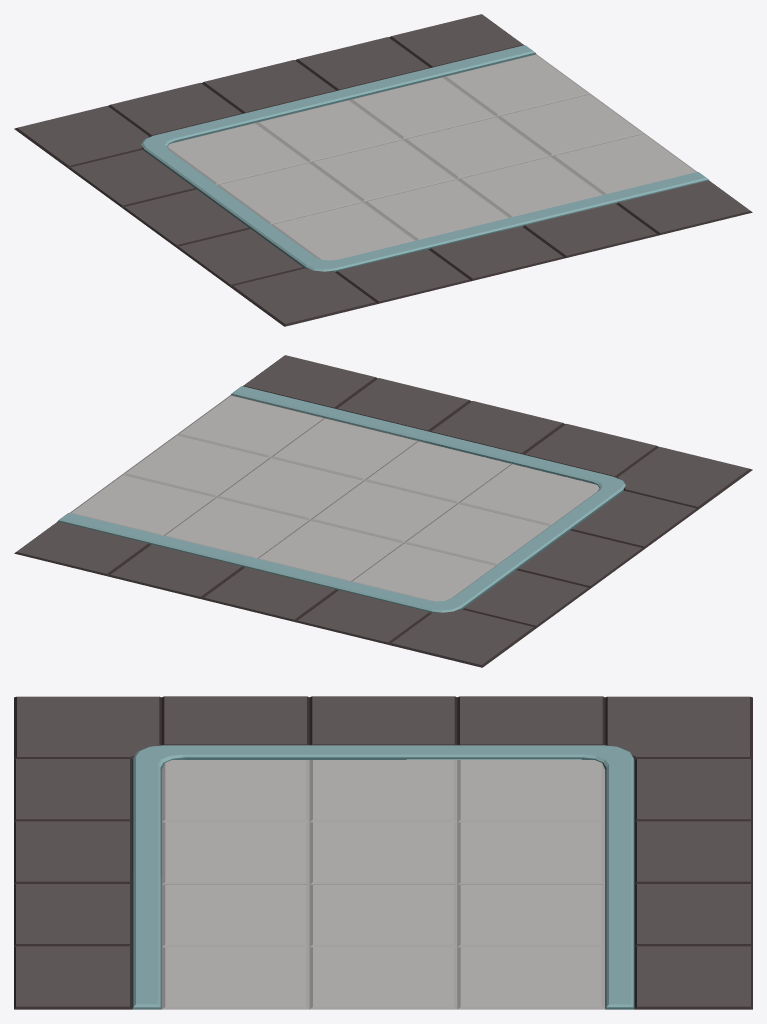
The model's file is DeadEnd_0.glb.
The picture shows the model from 3 angles, top to bottom: view 1: azimuth 30°, elevation 25°; view 2: azimuth 150°, elevation 25°; view 3: azimuth 270°, elevation 25°; orthographic projection. The views are drawn at different scales.
Parts seen in each view (by area): view 1: DeadEnd_E.001; view 2: DeadEnd_E.001; view 3: DeadEnd_E.001.
Boxes of the visible parts, x1,y1,x2,y2 form: DeadEnd_E.001: (14,14,752,326); DeadEnd_E.001: (14,355,752,667); DeadEnd_E.001: (14,696,752,1009).
Size of the model in its own units: 16 by 0.0884 by 16.
1 material, 1 textured.
